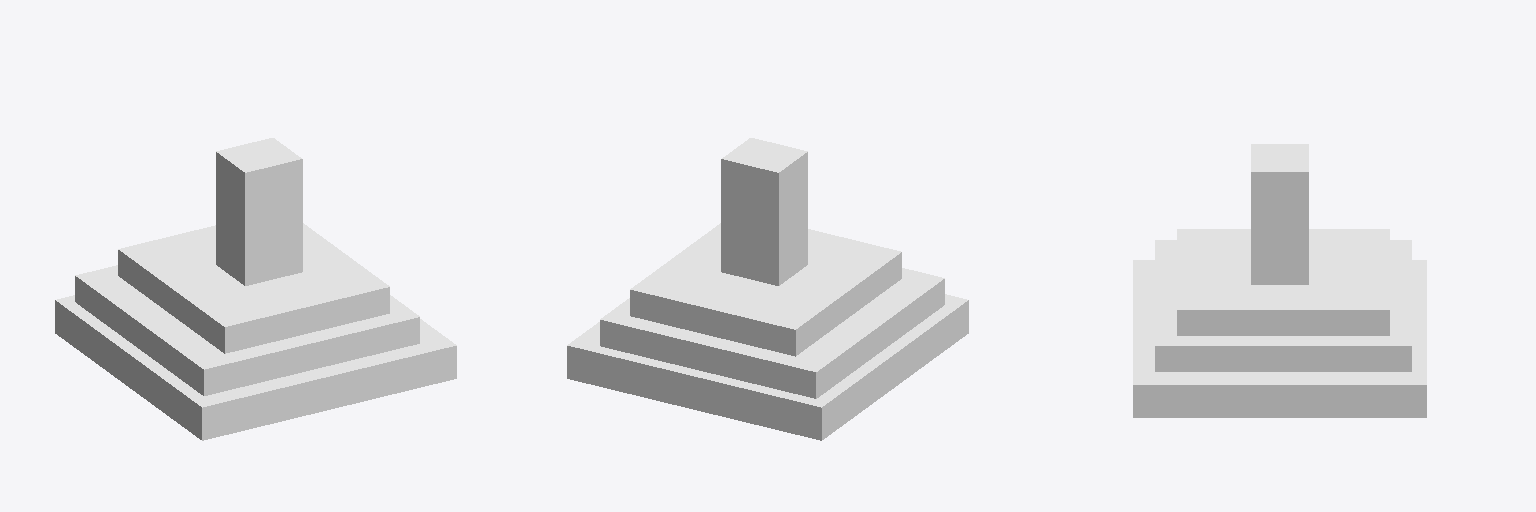
The model's file is light_Fixture_V1.obj.
3 views of the same model, side by side, from view 1: azimuth 30°, elevation 25°; view 2: azimuth 150°, elevation 25°; view 3: azimuth 270°, elevation 25° (orthographic).
Visible parts, largest first — view 1: light_Fixture_V1; view 2: light_Fixture_V1; view 3: light_Fixture_V1.
Boxes of the visible parts, x1,y1,x2,y2 form: light_Fixture_V1: [55, 138, 456, 440]; light_Fixture_V1: [567, 138, 968, 440]; light_Fixture_V1: [1133, 144, 1426, 417].
Bounding box in the file's own units: 40 × 30 × 40.